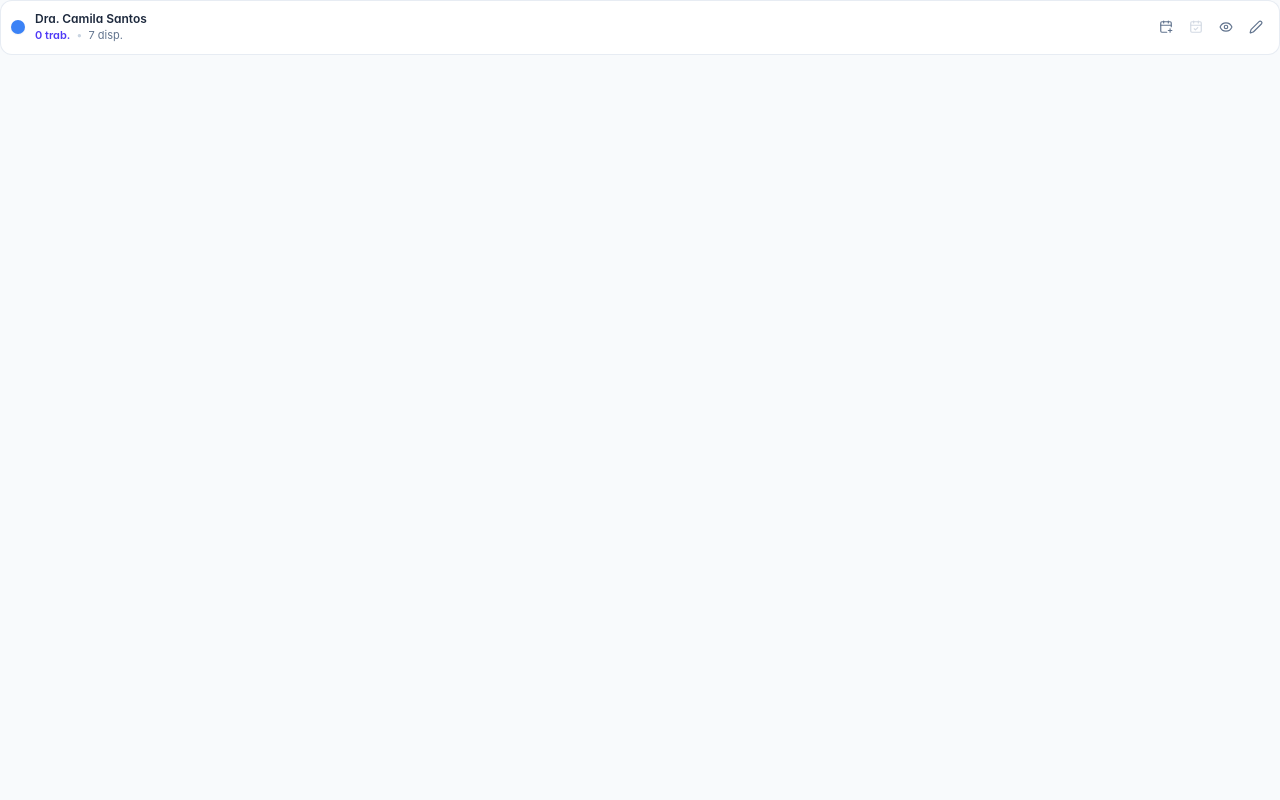
it: PersonCard › picks "Todas as escalas" in the shift picker
Click the button named "Inserir todos os dias de Dra. Camila Santos no calendário". click: (1166, 27)
box: [1153, 14, 1179, 40]
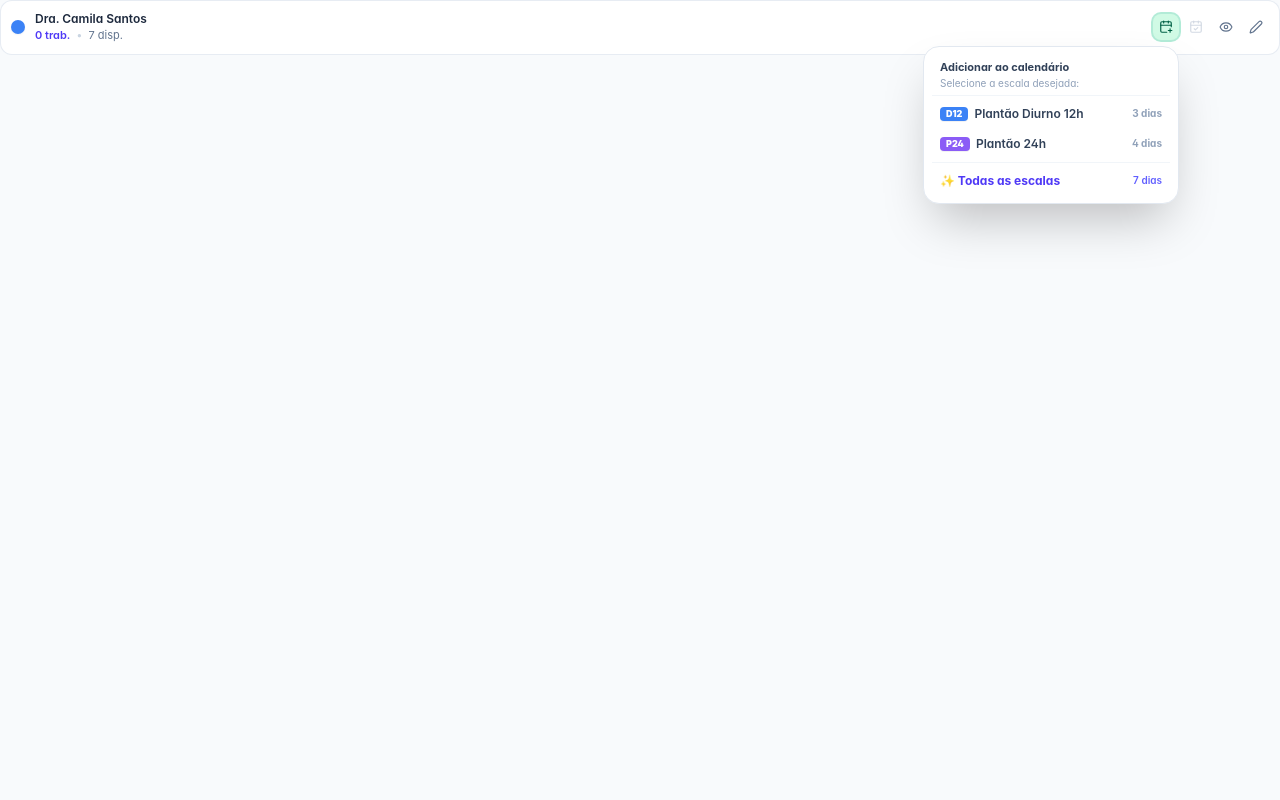
Click the text "✨ Todas as escalas". click: (1000, 181)
box: [940, 173, 1060, 189]
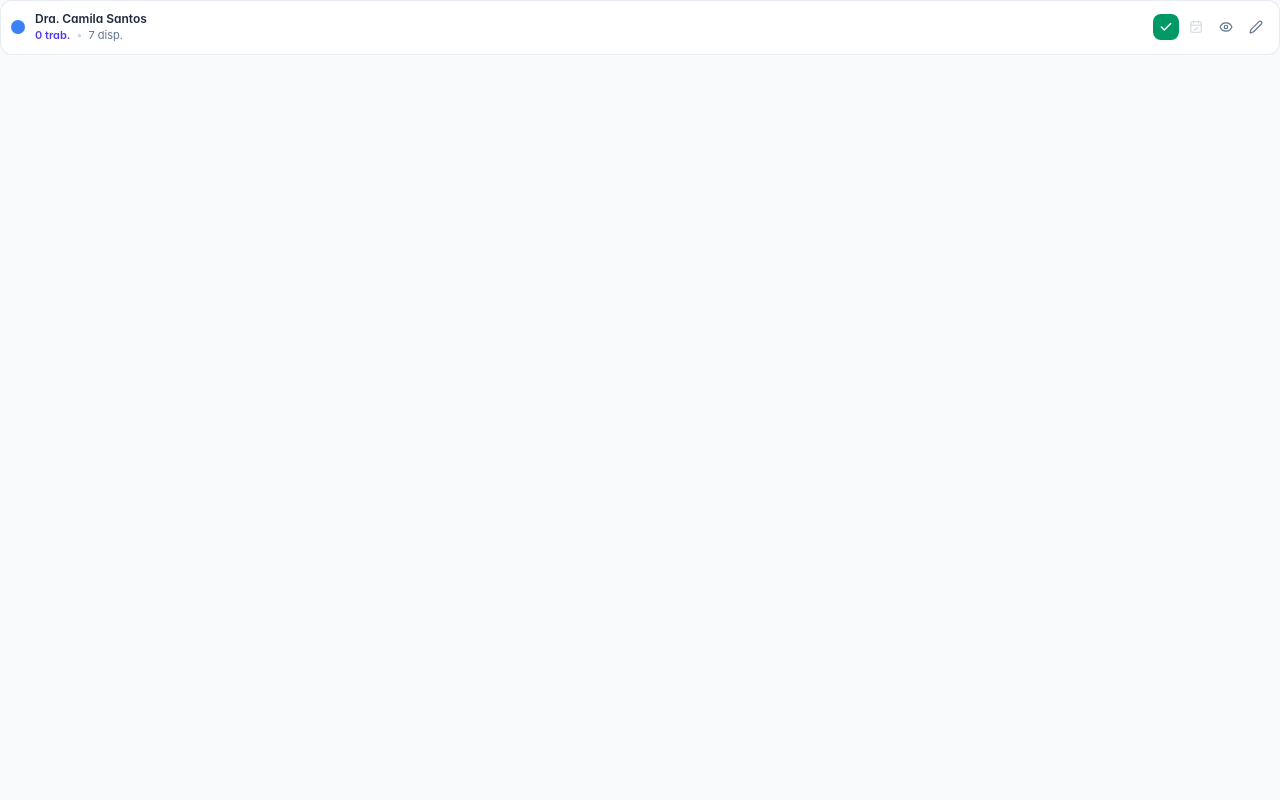
Result: the dialog with test id "shift-selection-balloon" is gone
